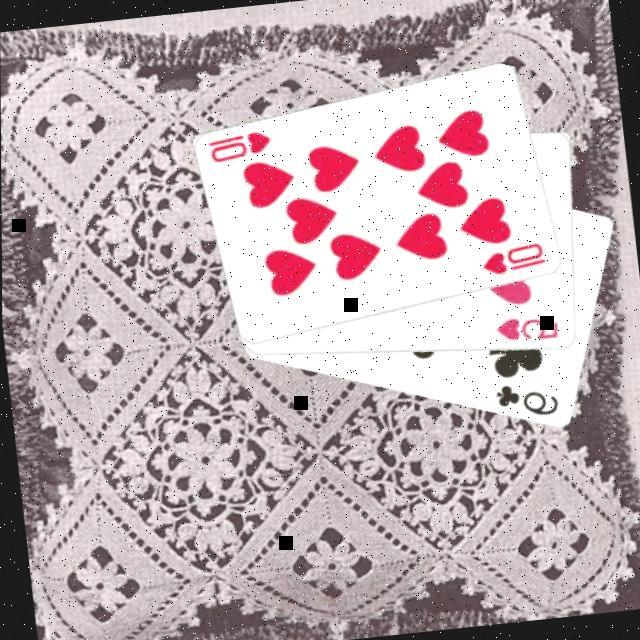10H: (202, 124, 274, 166), (475, 238, 547, 279)
5H: (490, 310, 560, 347)
6C: (488, 376, 560, 424)
